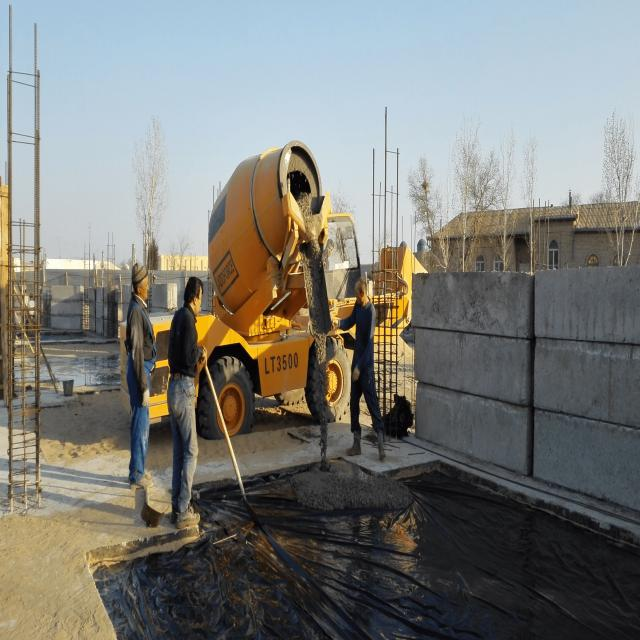truck: (198, 140, 360, 434)
